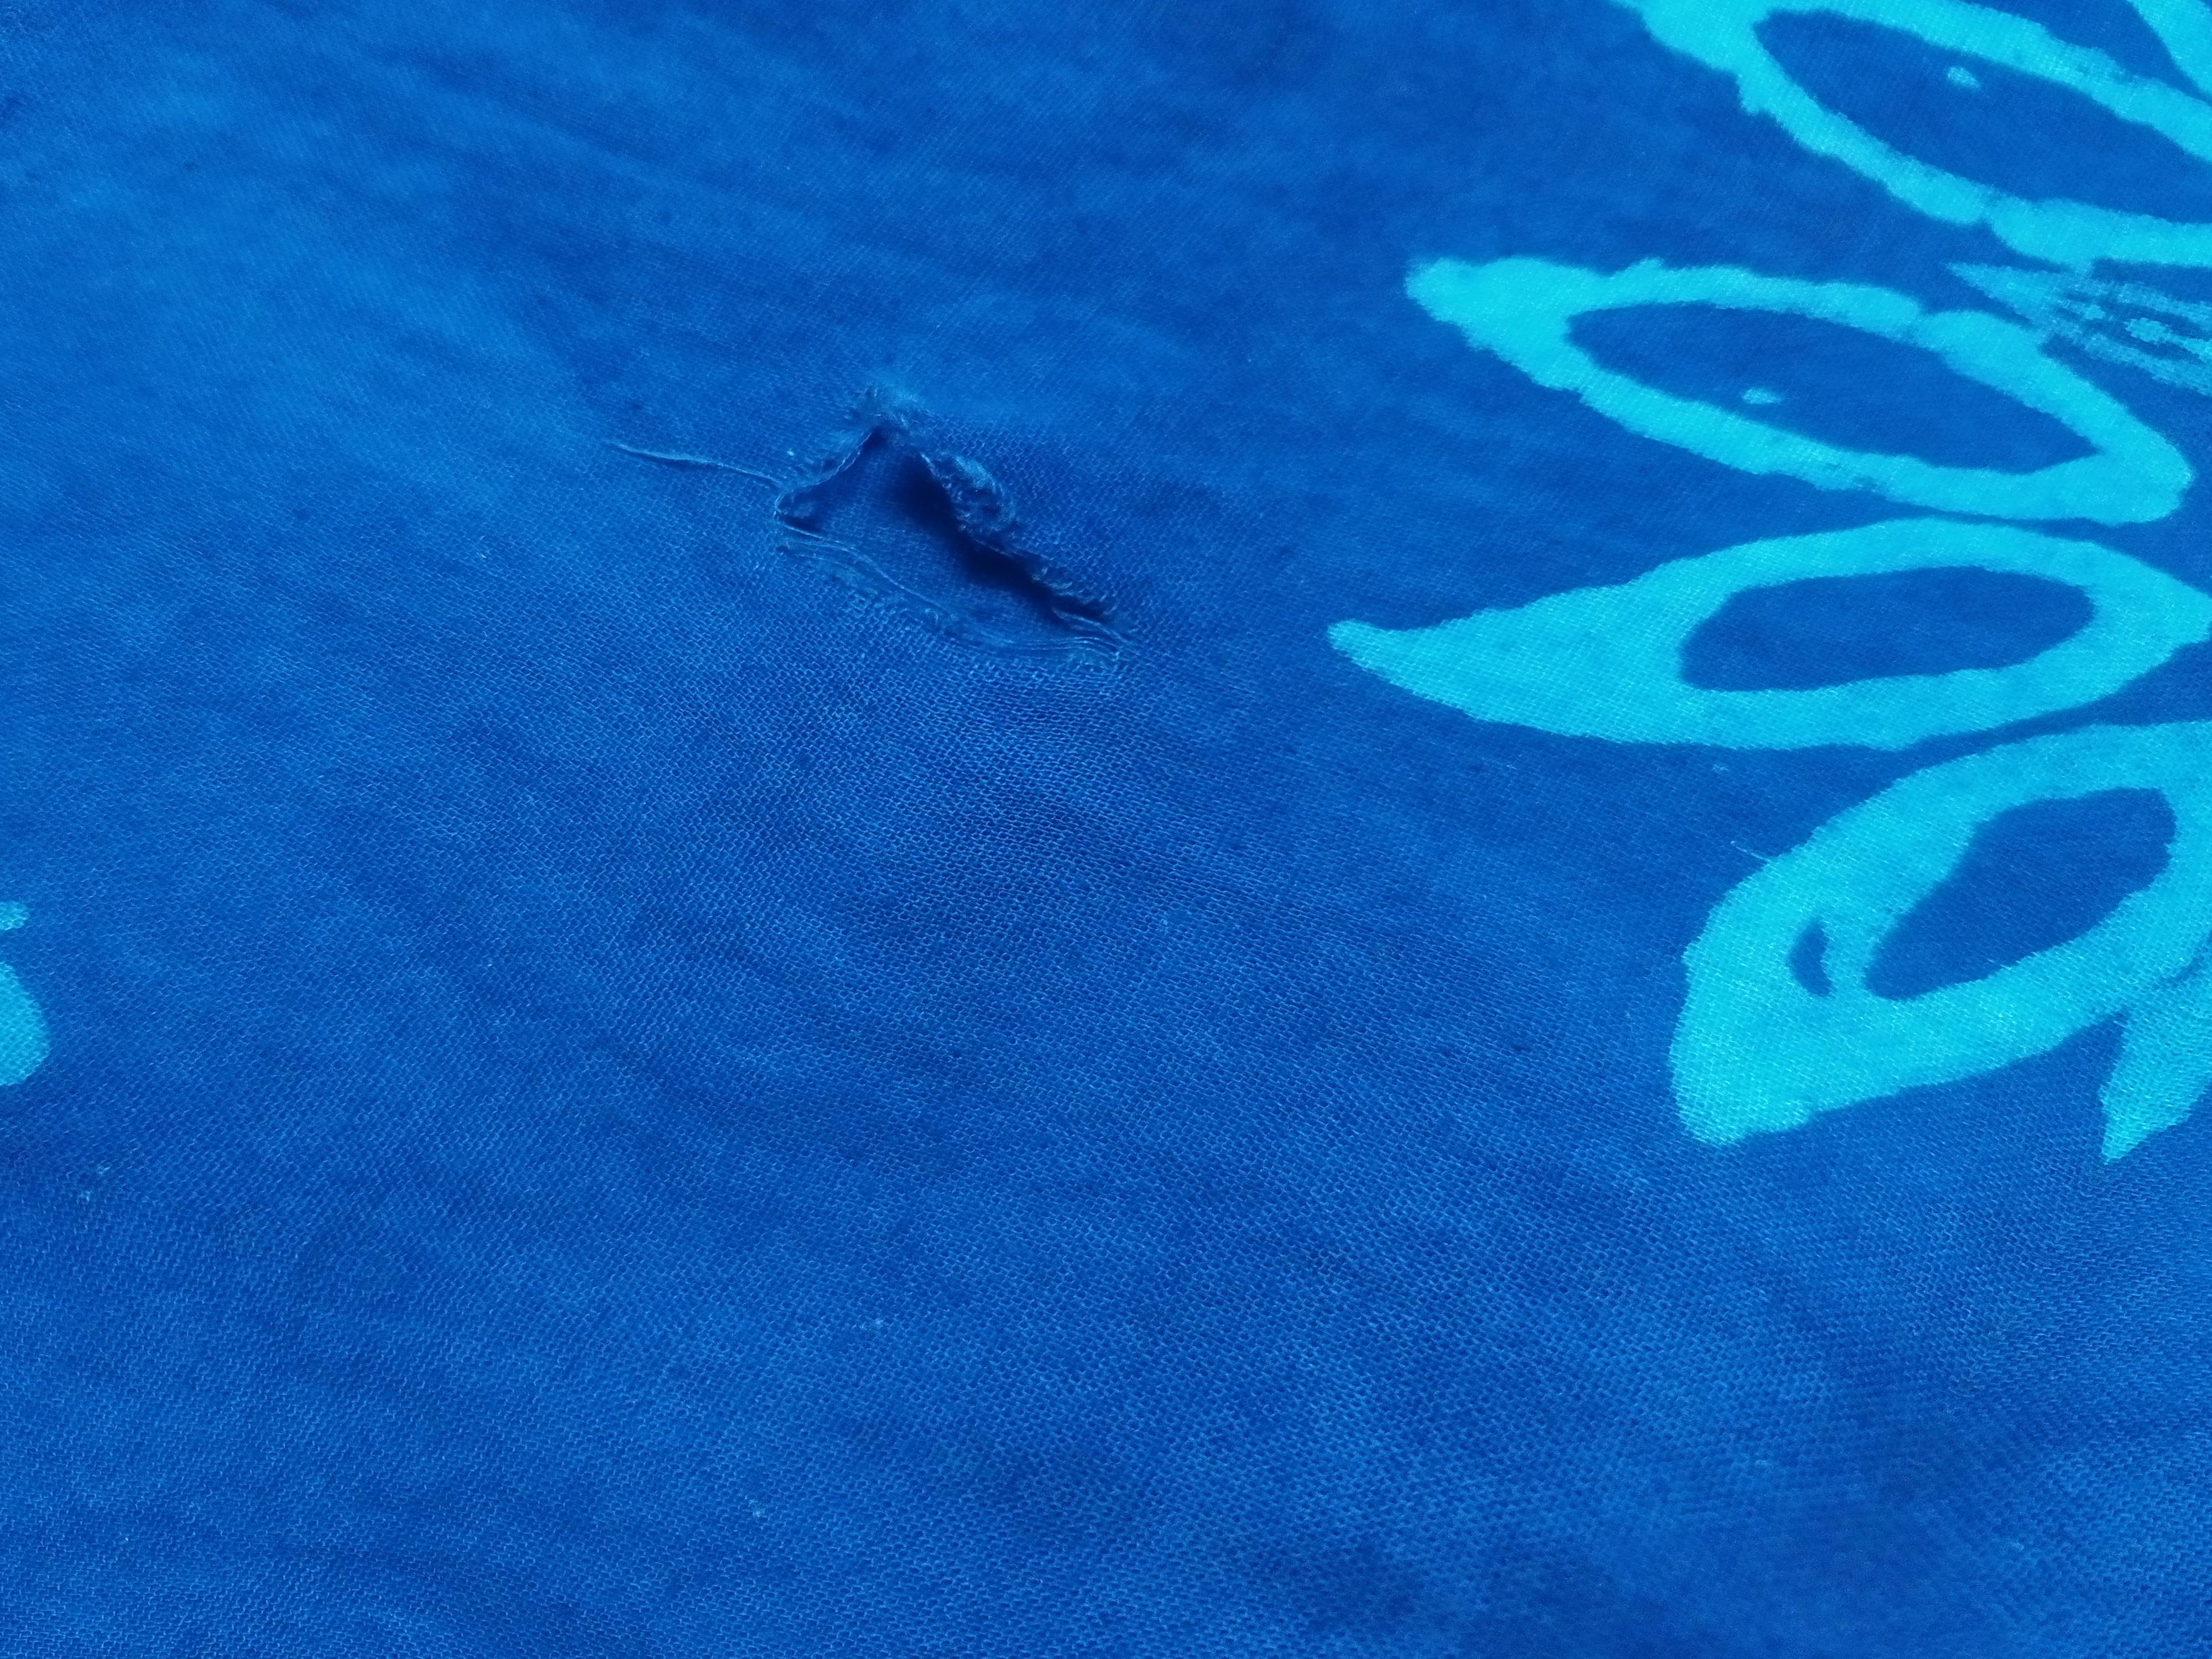hole: (730, 357, 1150, 680)
